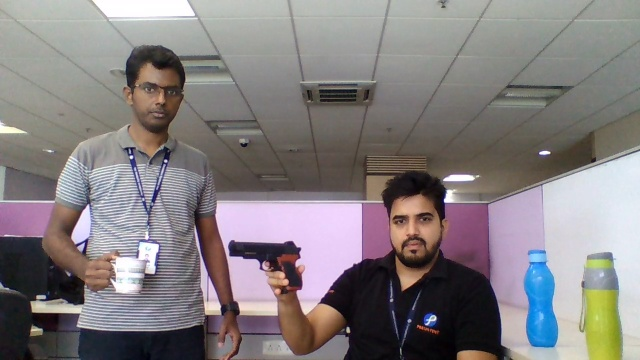gun: (228, 240, 301, 266)
